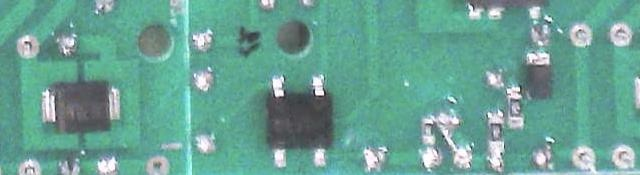chip-resistor: (488, 116, 504, 149), (508, 93, 523, 125), (422, 119, 434, 143)
diode: (44, 81, 119, 132), (526, 53, 550, 100)
ic: (265, 72, 332, 167)
